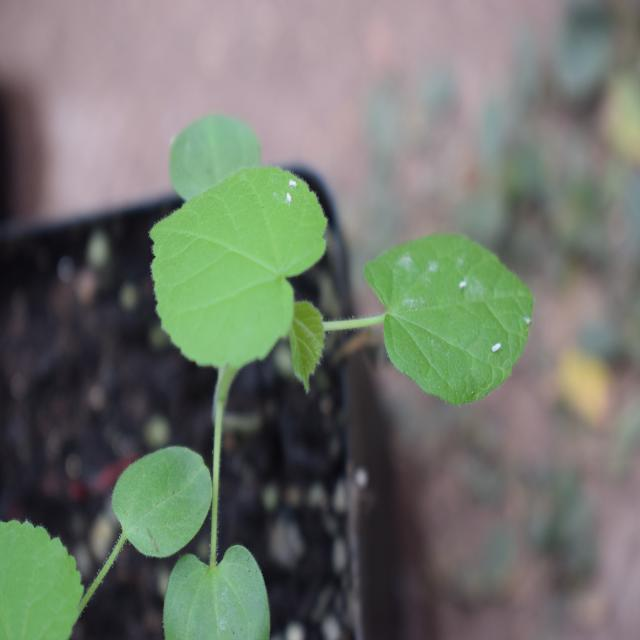abutilon theophrasti: (125, 111, 511, 593)
